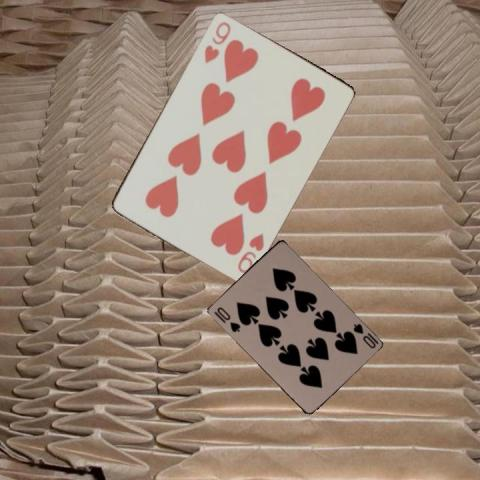10s: (350, 321, 380, 350), (214, 304, 241, 333)
9h: (200, 18, 232, 65), (234, 229, 265, 275)
